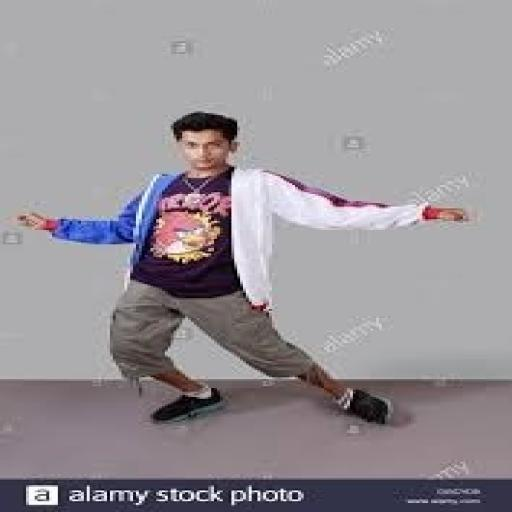dancing: (14, 110, 478, 428)
